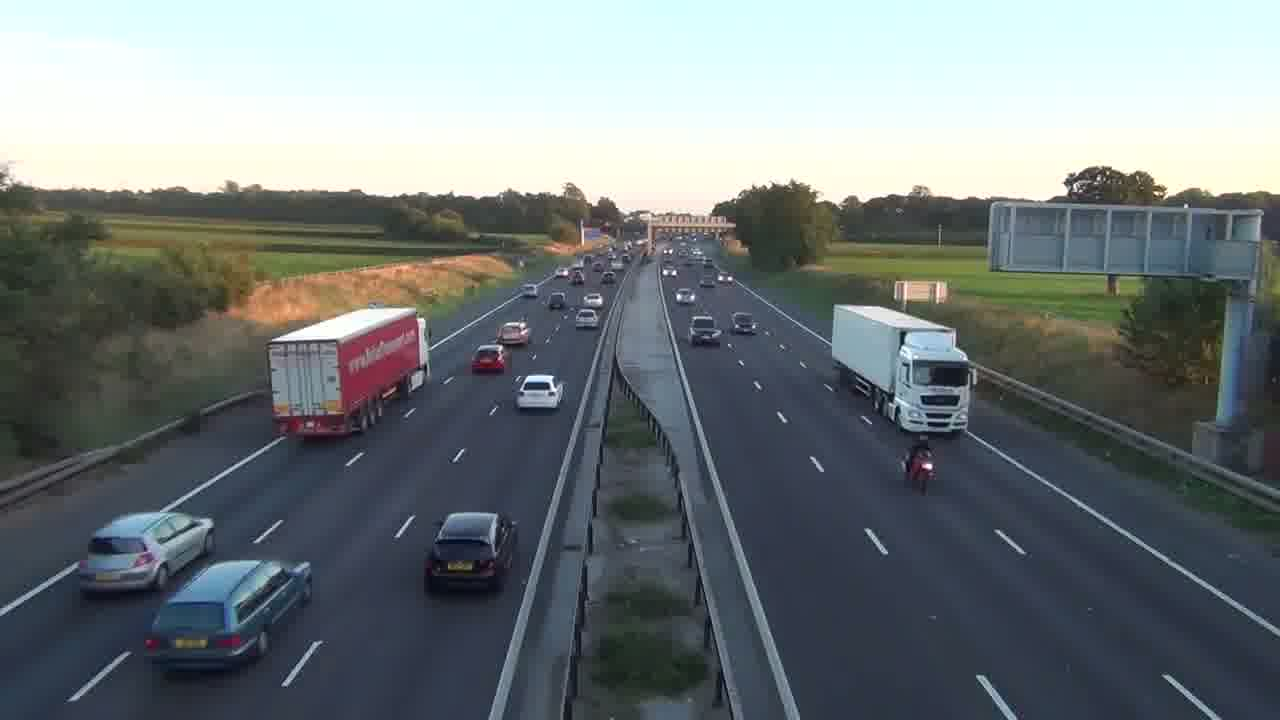car: (144, 557, 314, 672), (78, 509, 215, 596), (423, 511, 518, 593), (514, 372, 564, 412), (688, 314, 723, 347), (472, 342, 506, 374), (496, 320, 531, 347), (574, 306, 600, 330), (731, 312, 757, 335)
truck: (267, 306, 430, 440), (831, 304, 975, 437)
